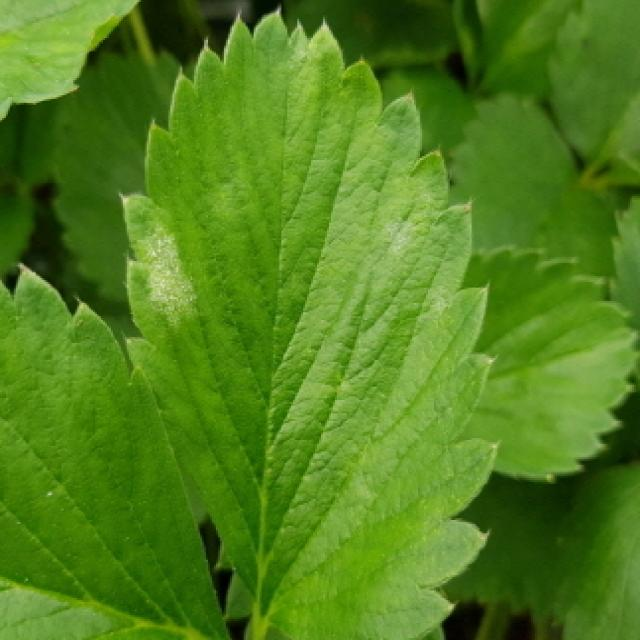Powdery Mildew Leaf: (117, 5, 503, 640)
